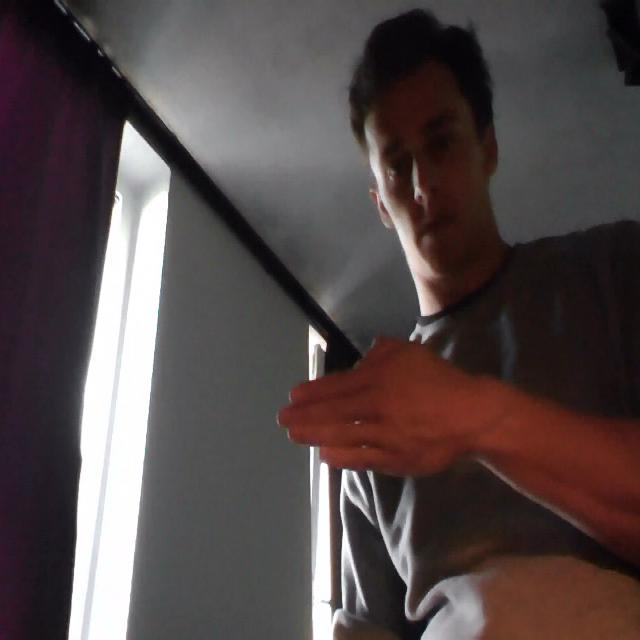left: (258, 326, 474, 489)
